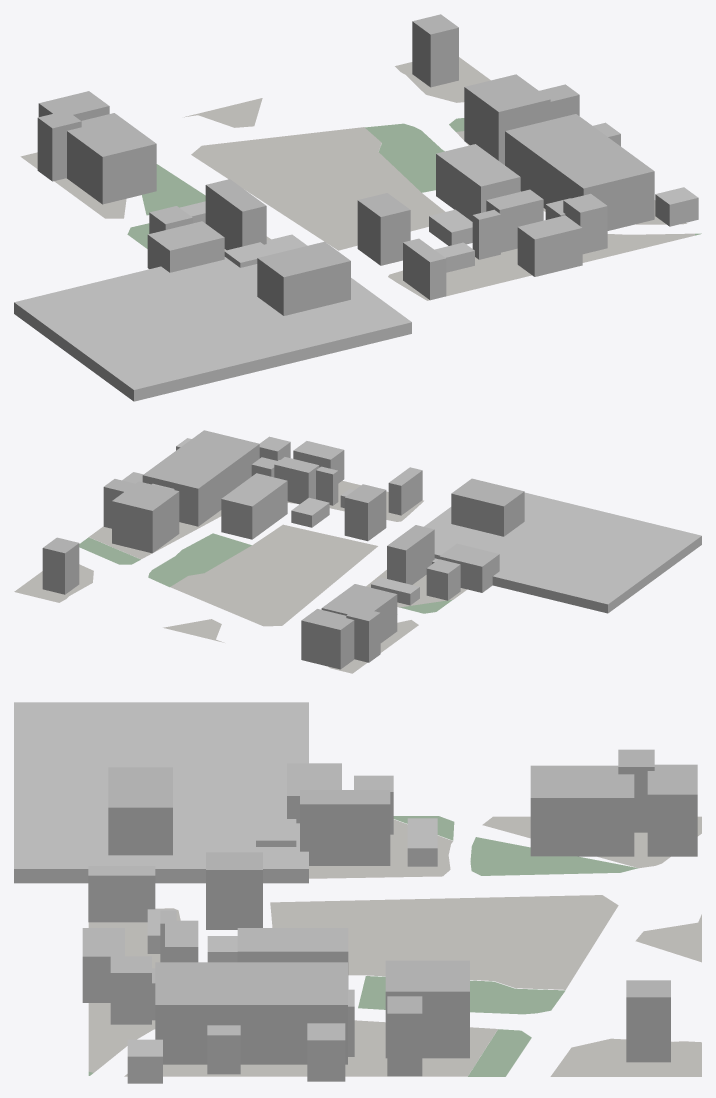
File: 104_92_mid.glb
3 renders of one model, top to bottom at view 1: azimuth 30°, elevation 25°; view 2: azimuth 150°, elevation 25°; view 3: azimuth 270°, elevation 25°, orthographic. The views are drawn at different scales.
Bounding box in the file's own units: 707 × 60.26 × 561.
